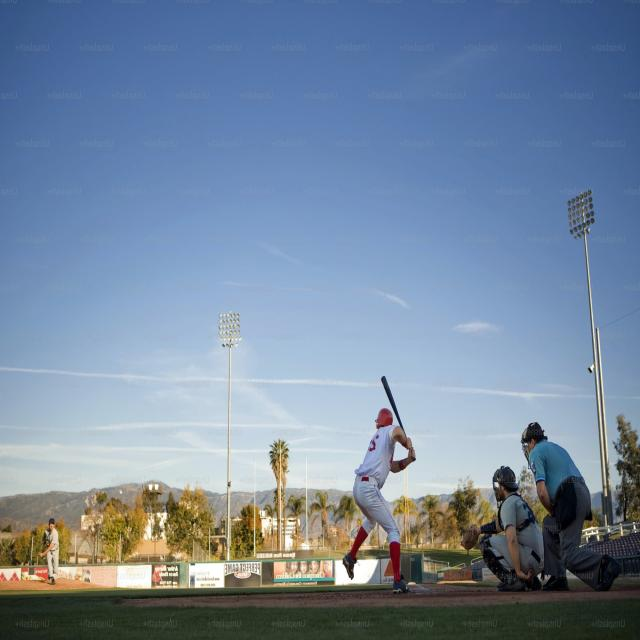adult: (528, 422, 617, 588), (342, 408, 417, 594), (477, 467, 542, 591), (38, 518, 58, 583)
